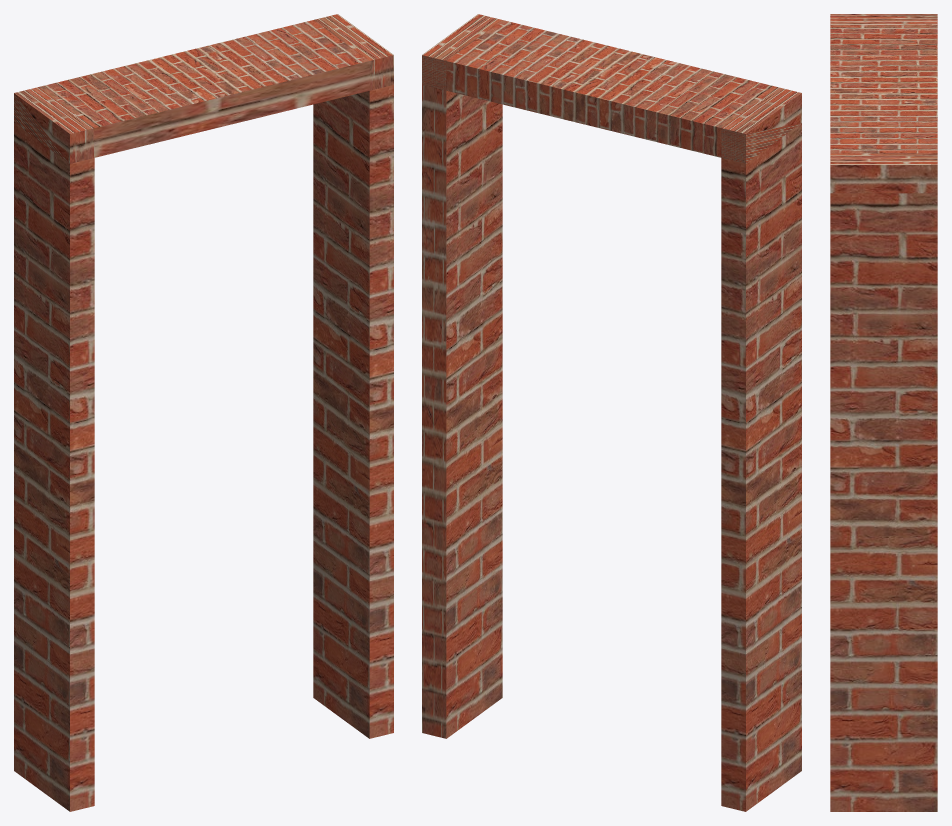
File: doorwall.fbx
3 renders of one model, left to right at view 1: azimuth 30°, elevation 25°; view 2: azimuth 150°, elevation 25°; view 3: azimuth 270°, elevation 25°, orthographic. The views are drawn at different scales.
Visible parts, largest first — view 1: Cube; view 2: Cube; view 3: Cube.
Part boxes in pixels (box(x1,y1,x2,y2)): Cube: box(14, 14, 393, 811); Cube: box(422, 14, 801, 811); Cube: box(830, 14, 937, 811).
Bounding box in the file's own units: 100 × 200 × 30.
